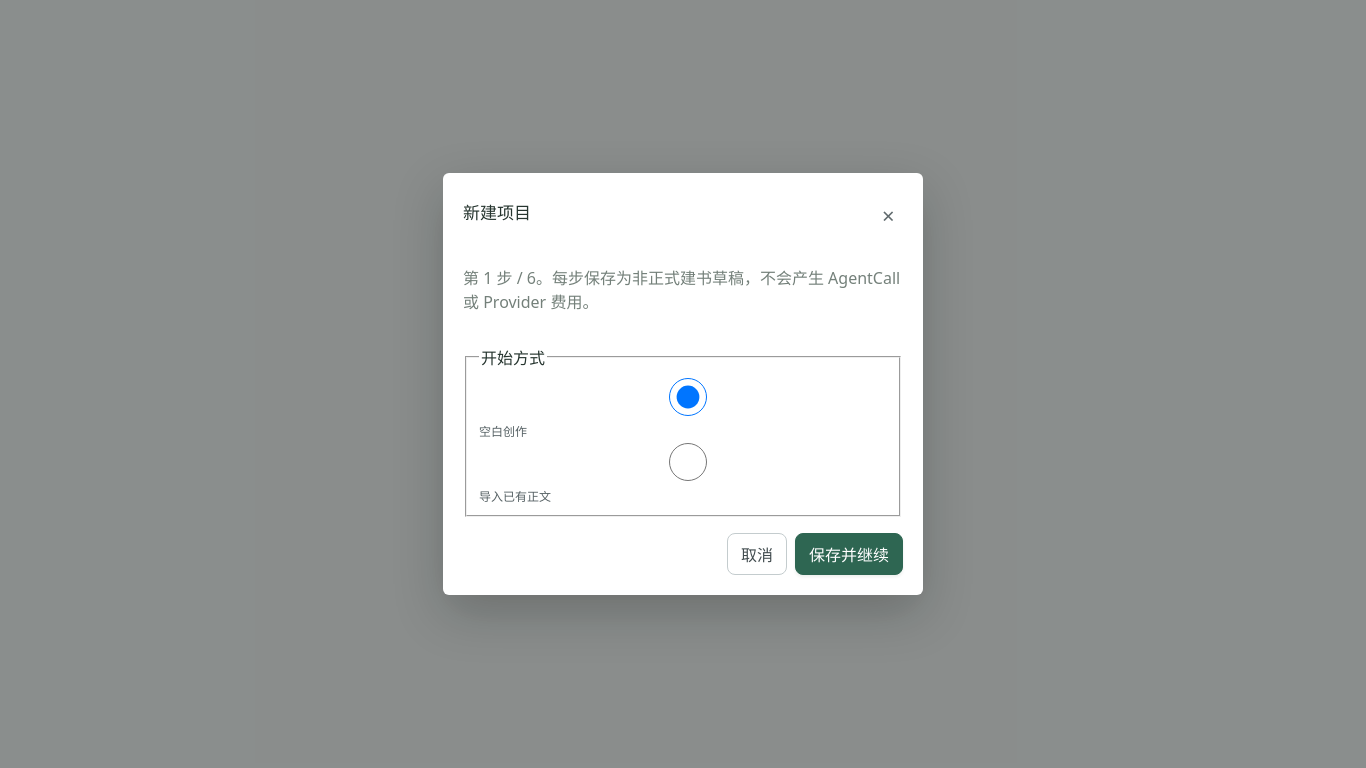
Test: project setup import › persists a genre pair and more than twelve narrative cards independently
Later steps or results of the test are not shown.
Click the button "保存并继续" at (849, 554), box [795,533,903,575]
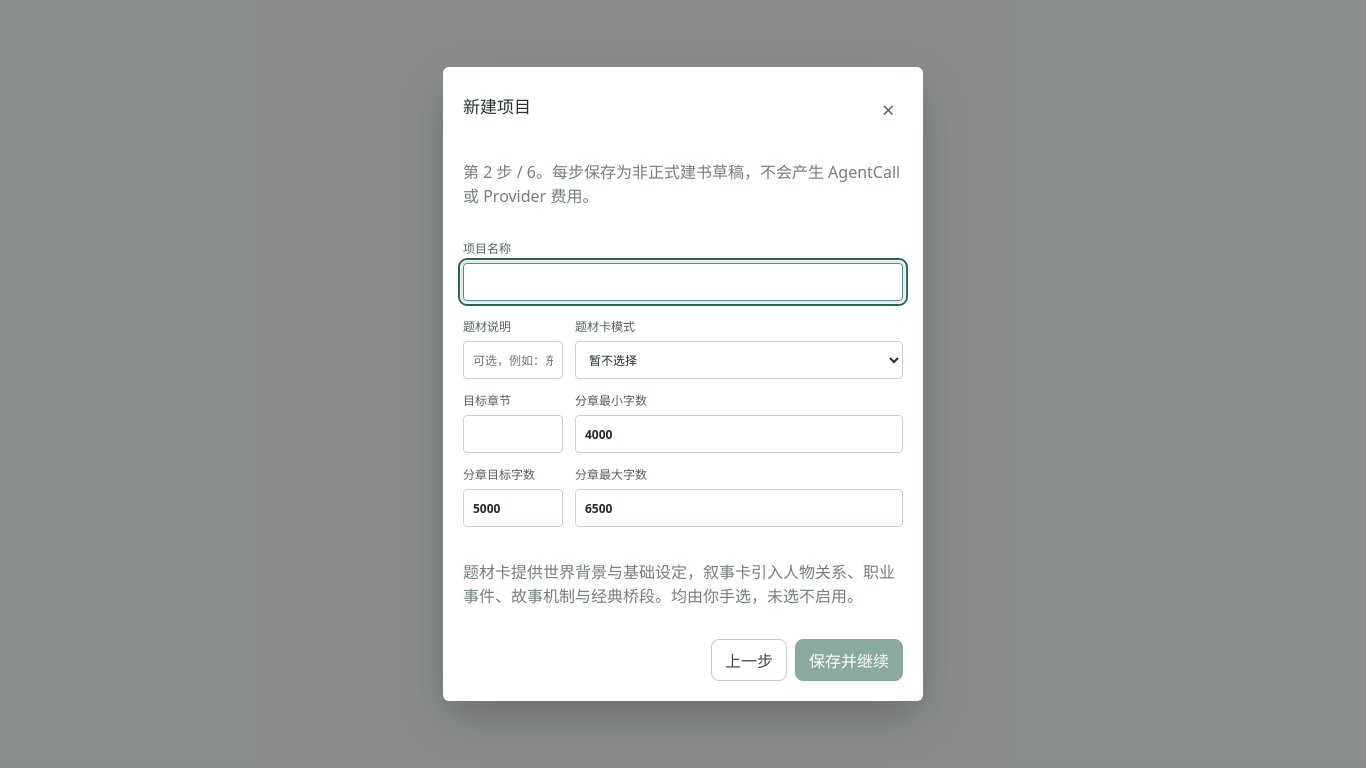
Now the text "第 2 步 / 6。每步保存为非正式建书草稿，不会产生 AgentCall 或 Provider 费用。" is shown, box [463,159,903,207]
Type "多题材小说" into the field labelled "项目名称" at (683, 282), box [463,263,903,301]
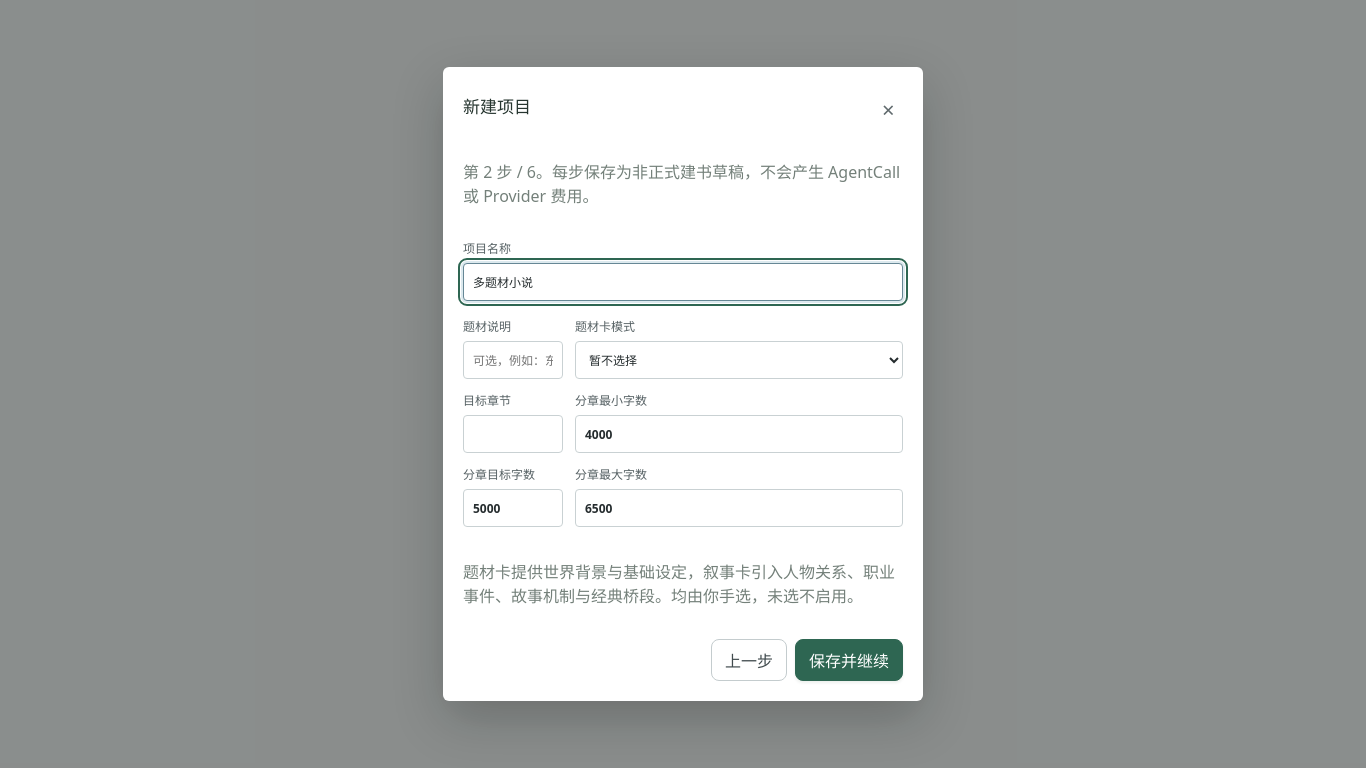
Now the dropdown labelled "题材卡模式" shows "暂不选择", box [575,341,903,379]
